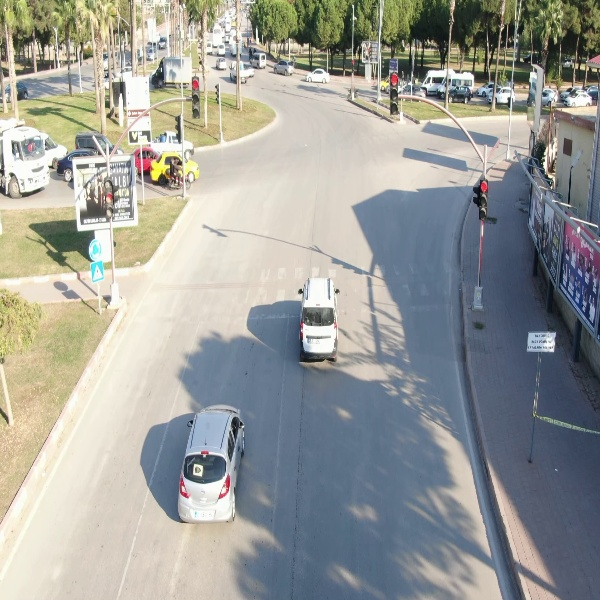car: (174, 404, 250, 525), (298, 273, 338, 368), (448, 83, 475, 105), (488, 85, 515, 106), (563, 90, 594, 108), (271, 58, 298, 77), (305, 68, 331, 85), (250, 51, 266, 70), (215, 55, 229, 71)
